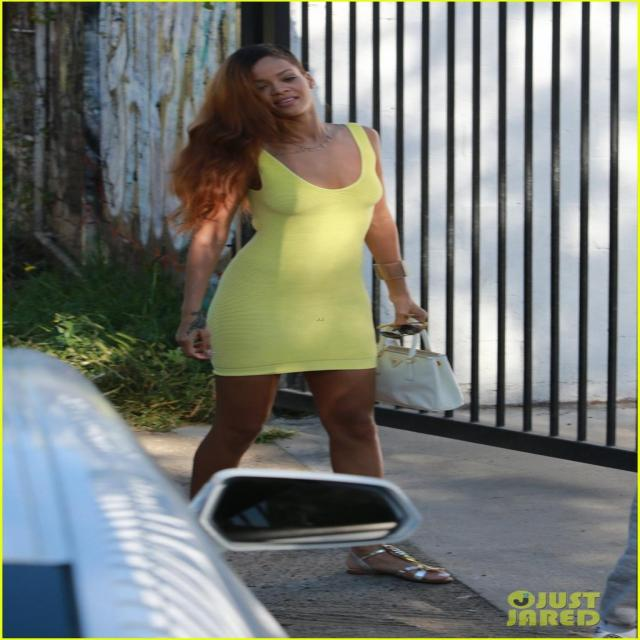Face: (245, 50, 327, 129)
